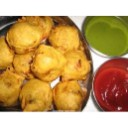bonda: (34, 46, 66, 82), (22, 77, 52, 113), (7, 22, 42, 52), (63, 50, 91, 83), (53, 82, 85, 110), (2, 71, 20, 111), (52, 24, 79, 50)
